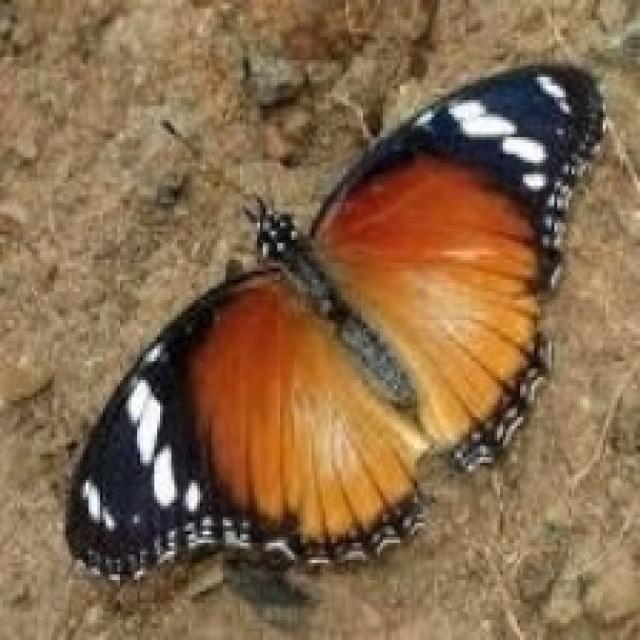butterfly: (60, 57, 609, 594)
